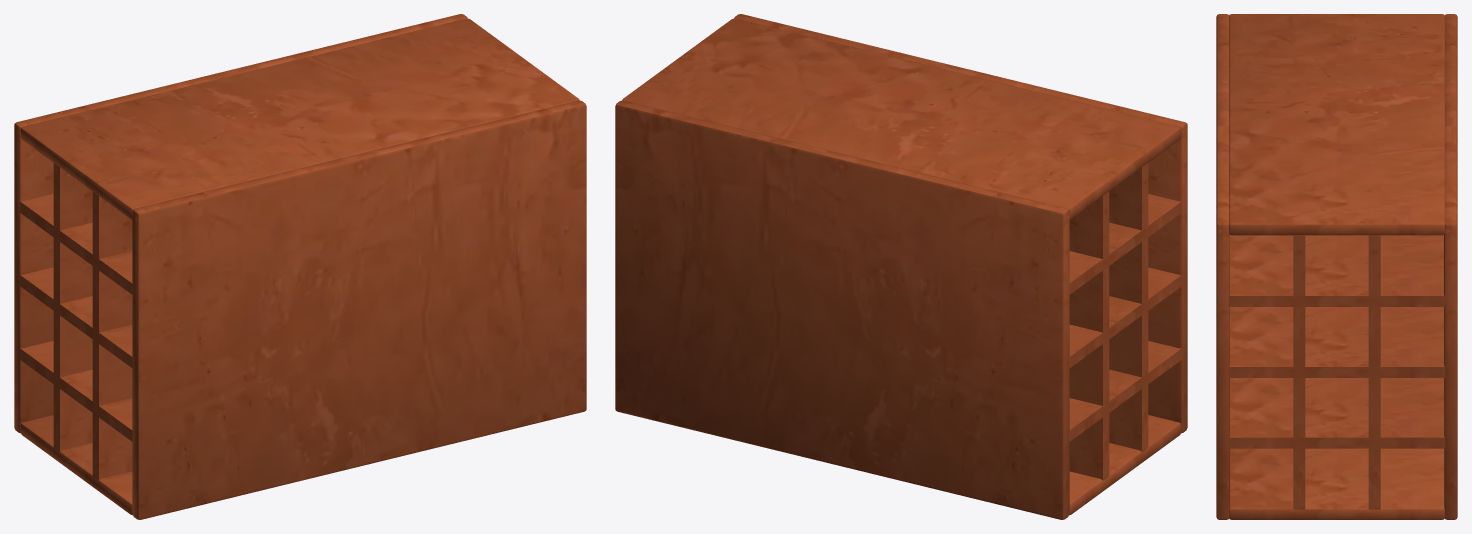
Rendered from ALV-BLC-004.glb.
3 views of the same model, side by side, from view 1: azimuth 30°, elevation 25°; view 2: azimuth 150°, elevation 25°; view 3: azimuth 270°, elevation 25° (orthographic). The views are drawn at different scales.
Visible parts, largest first — view 1: ALV-BLC-004_pf1, ALV-BLC-004_pt, ALV-BLC-004_pf2, ALV-BLC-004_sv1, ALV-BLC-004_sv2, ALV-BLC-004_pb, ALV-BLC-004_sh2, ALV-BLC-004_sh3, ALV-BLC-004_sh1; view 2: ALV-BLC-004_pf2, ALV-BLC-004_pt, ALV-BLC-004_pf1, ALV-BLC-004_sv2, ALV-BLC-004_sv1, ALV-BLC-004_pb, ALV-BLC-004_sh3, ALV-BLC-004_sh2, ALV-BLC-004_sh1; view 3: ALV-BLC-004_pt, ALV-BLC-004_sh3, ALV-BLC-004_pb, ALV-BLC-004_sh1, ALV-BLC-004_sh2, ALV-BLC-004_pf1, ALV-BLC-004_pf2, ALV-BLC-004_sv1, ALV-BLC-004_sv2.
Part boxes in pixels (x1,y1,x2,y2): ALV-BLC-004_pf1: (132,100,586,519); ALV-BLC-004_pt: (20,18,579,219); ALV-BLC-004_pf2: (14,14,467,433); ALV-BLC-004_sv1: (92,191,132,480); ALV-BLC-004_sv2: (53,163,92,451); ALV-BLC-004_pb: (20,415,132,515); ALV-BLC-004_sh2: (20,267,132,368); ALV-BLC-004_sh3: (20,194,132,294); ALV-BLC-004_sh1: (20,341,132,441); ALV-BLC-004_pf2: (615,100,1069,519); ALV-BLC-004_pt: (622,18,1181,219); ALV-BLC-004_pf1: (734,14,1187,433); ALV-BLC-004_sv2: (1069,191,1109,480); ALV-BLC-004_sv1: (1109,163,1148,451); ALV-BLC-004_pb: (1069,415,1181,515); ALV-BLC-004_sh3: (1069,194,1181,294); ALV-BLC-004_sh2: (1069,267,1181,368); ALV-BLC-004_sh1: (1069,341,1181,441); ALV-BLC-004_pt: (1229,14,1444,235); ALV-BLC-004_sh3: (1228,235,1445,306); ALV-BLC-004_pb: (1229,448,1444,519); ALV-BLC-004_sh1: (1228,378,1445,448); ALV-BLC-004_sh2: (1228,307,1445,377); ALV-BLC-004_pf1: (1216,14,1229,519); ALV-BLC-004_pf2: (1444,14,1457,519); ALV-BLC-004_sv1: (1293,235,1305,509); ALV-BLC-004_sv2: (1368,235,1380,509).
Size of the model in its own units: 0.29 by 0.19 by 0.14.
1 material, 1 textured.
